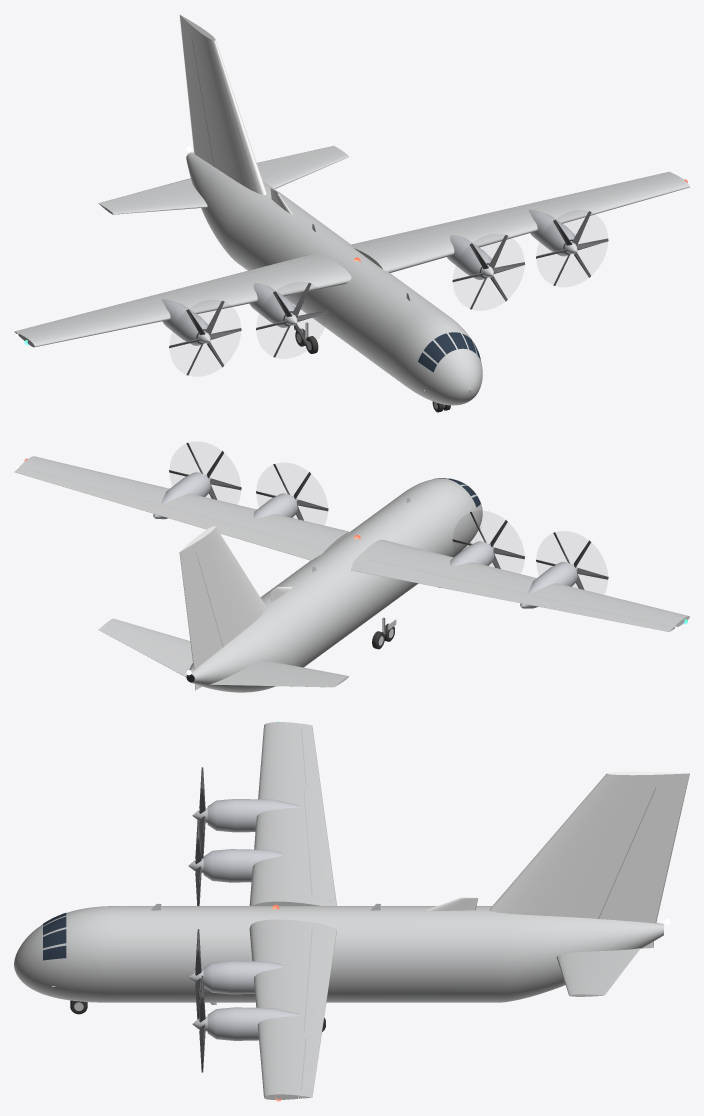
The picture shows the model from 3 angles, top to bottom: view 1: azimuth 30°, elevation 25°; view 2: azimuth 150°, elevation 25°; view 3: azimuth 270°, elevation 25°; orthographic projection. The views are drawn at different scales.
Visible parts, largest first — view 1: airframe, prop (×4); view 2: airframe, prop (×4), gear; view 3: airframe.
Part boxes in pixels (x1,y1,x2,y2): airframe: (14, 15, 689, 405); prop (×4): (169, 211, 608, 375); airframe: (14, 456, 689, 692); prop (×4): (169, 443, 608, 589); gear: (372, 617, 396, 649); airframe: (14, 721, 689, 1101).
Size of the model in its own units: 40.85 by 12.04 by 31.
